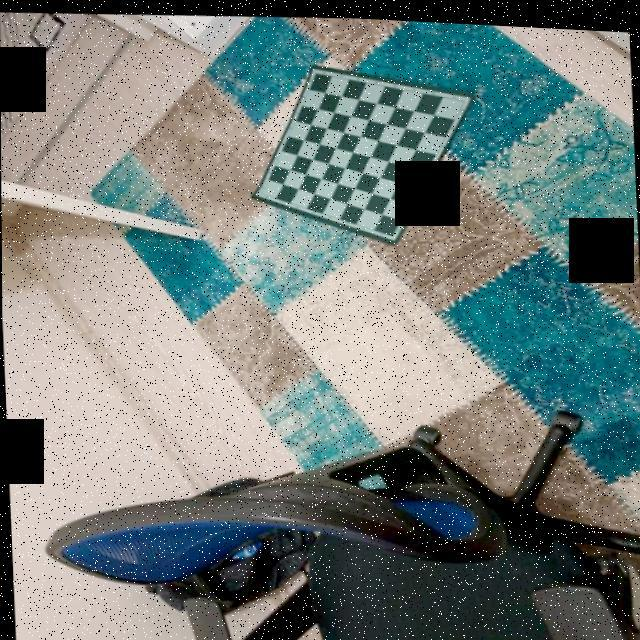chess-table-corners: (386, 226, 396, 234), (255, 185, 265, 193), (459, 91, 466, 98), (311, 66, 319, 72)
